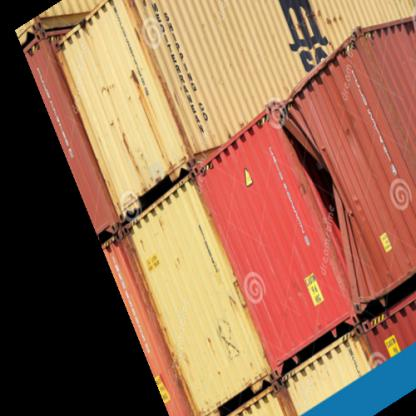Damage: (276, 122, 362, 241)
